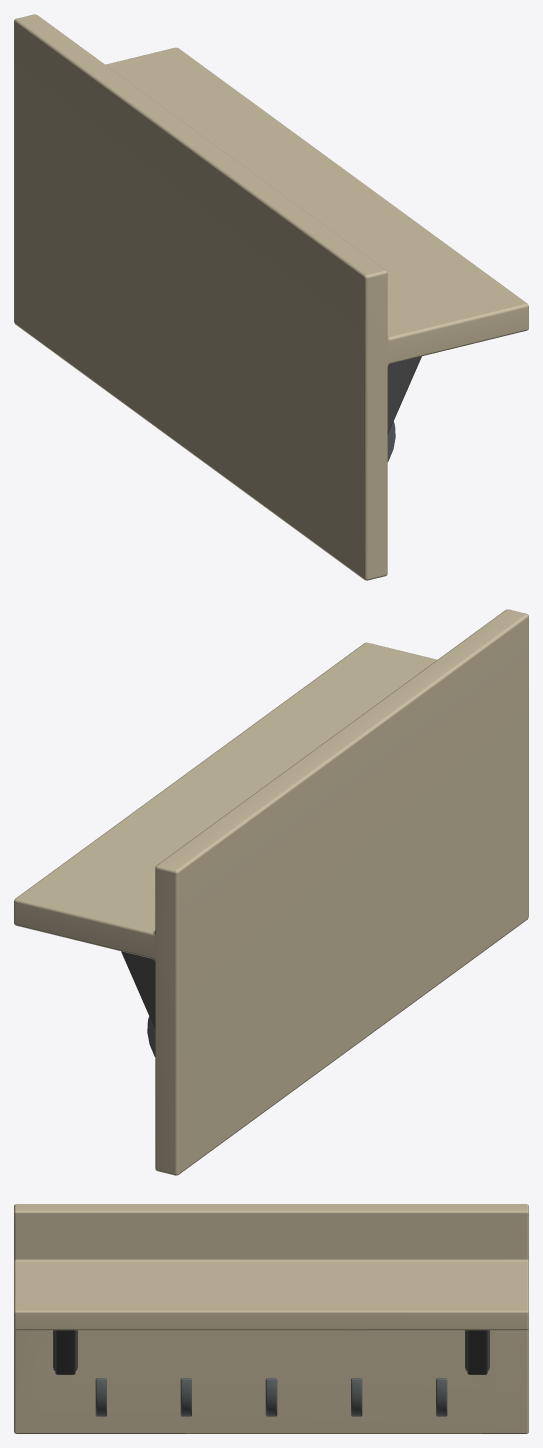
Rendered from Wall_Hanger.fbx.
The picture shows the model from 3 angles, top to bottom: view 1: azimuth 30°, elevation 25°; view 2: azimuth 150°, elevation 25°; view 3: azimuth 270°, elevation 25°; orthographic projection. The views are drawn at different scales.
Visible parts, largest first — view 1: Wall_Hanger; view 2: Wall_Hanger; view 3: Wall_Hanger.
Part boxes in pixels (x1,y1,x2,y2): Wall_Hanger: (14,14,528,580); Wall_Hanger: (14,609,528,1175); Wall_Hanger: (14,1204,528,1433).
Size of the model in its own units: 29.46 by 52.25 by 109.
